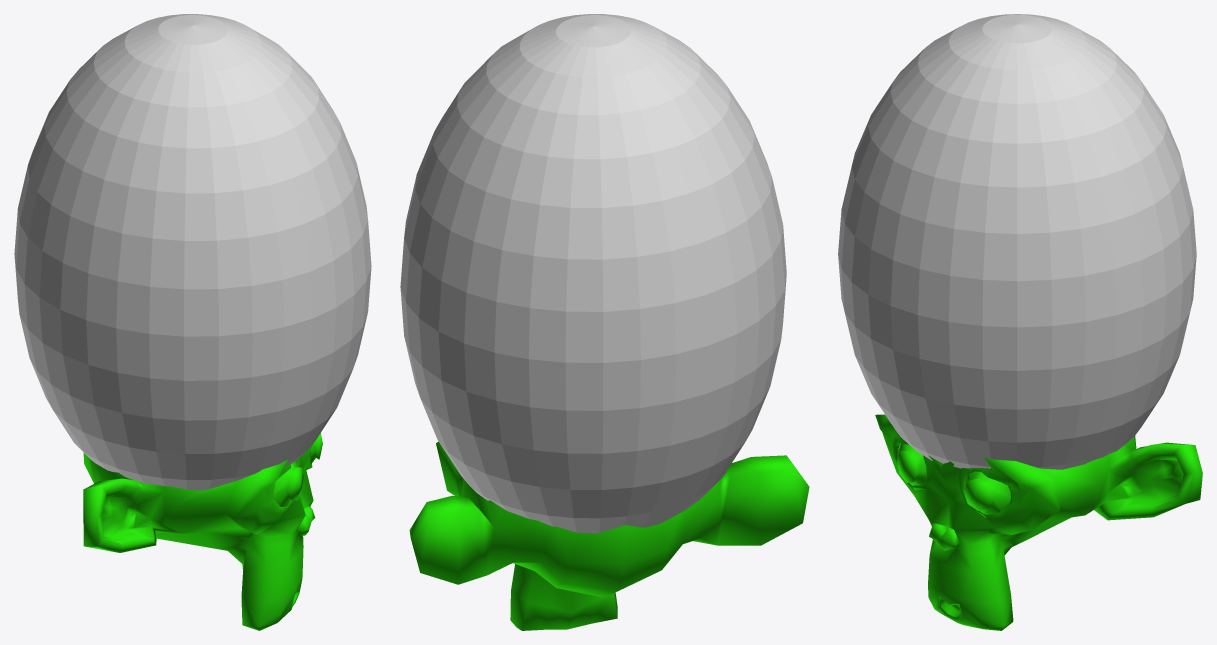
The model's file is suzanne-2.gltf.
3 renders of one model, left to right at view 1: azimuth 30°, elevation 25°; view 2: azimuth 150°, elevation 25°; view 3: azimuth 270°, elevation 25°, orthographic. The views are drawn at different scales.
Parts seen in each view (by area): view 1: Sphere, Suzanne; view 2: Sphere, Suzanne; view 3: Sphere, Suzanne.
Part boxes in pixels (box(x1,y1,x2,y2)): Sphere: box(14, 14, 371, 490); Suzanne: box(83, 433, 322, 630); Sphere: box(400, 14, 786, 533); Suzanne: box(409, 441, 809, 630); Sphere: box(838, 14, 1196, 469); Suzanne: box(875, 414, 1202, 630).
Bounding box in the file's own units: 2.51 × 4.58 × 2.64.
